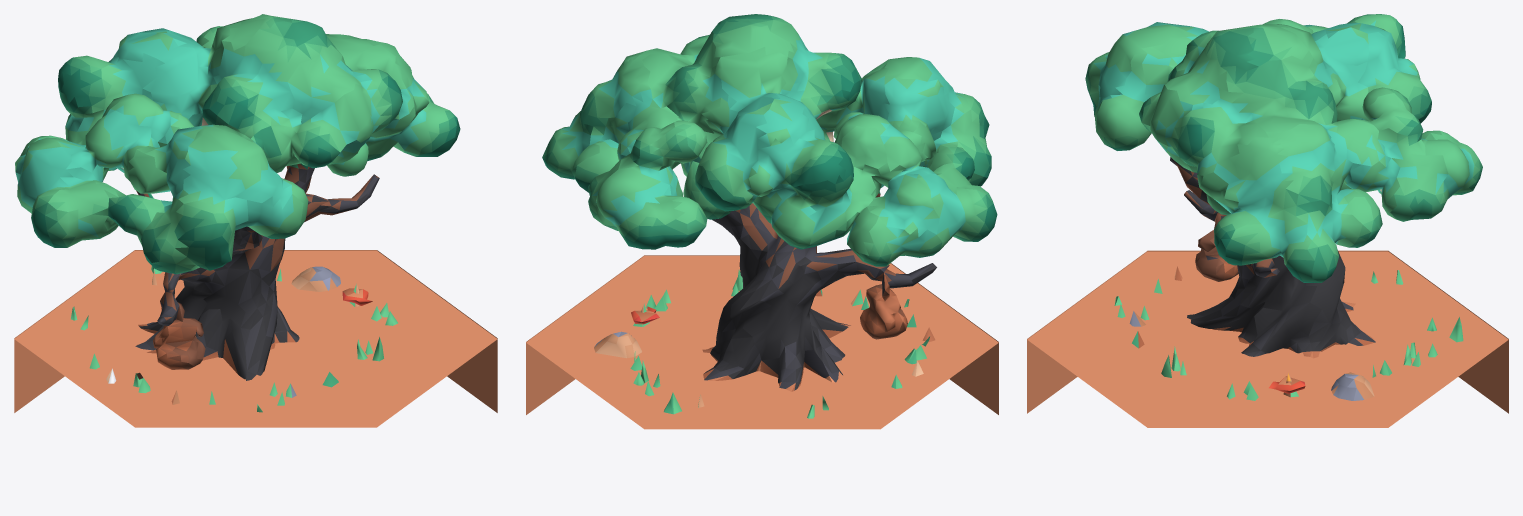
The model's file is 0 - mother tree2.glb.
The picture shows the model from 3 angles, left to right: view 1: azimuth 30°, elevation 25°; view 2: azimuth 150°, elevation 25°; view 3: azimuth 270°, elevation 25°; orthographic projection. The views are drawn at different scales.
Visible parts, largest first — view 1: recentre, hexBase; view 2: recentre, hexBase; view 3: recentre, hexBase.
Part boxes in pixels (box(x1,y1,x2,y2)): recentre: box(15, 14, 460, 412); hexBase: box(14, 250, 497, 427); recentre: box(542, 14, 997, 418); hexBase: box(526, 255, 998, 429); recentre: box(1085, 14, 1482, 400); hexBase: box(1027, 250, 1508, 427).
Bounding box in the file's own units: 1.18 × 1.04 × 1.15.
Materials: 1 (1 with a texture image).
